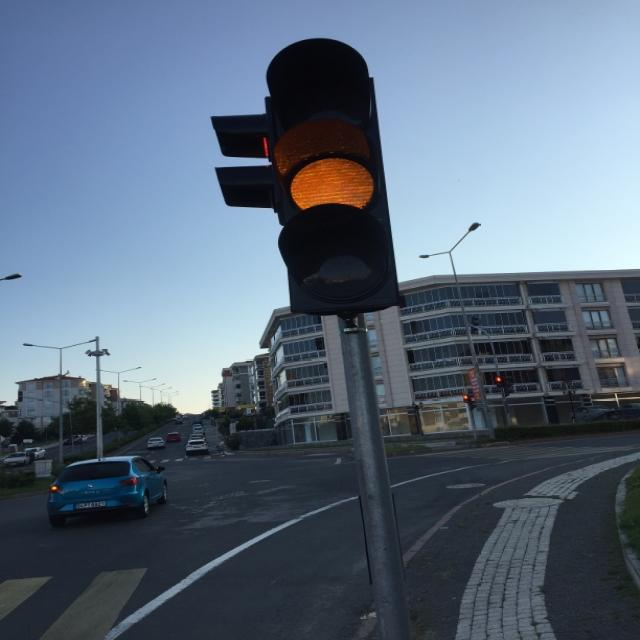sari: (266, 37, 401, 315)
